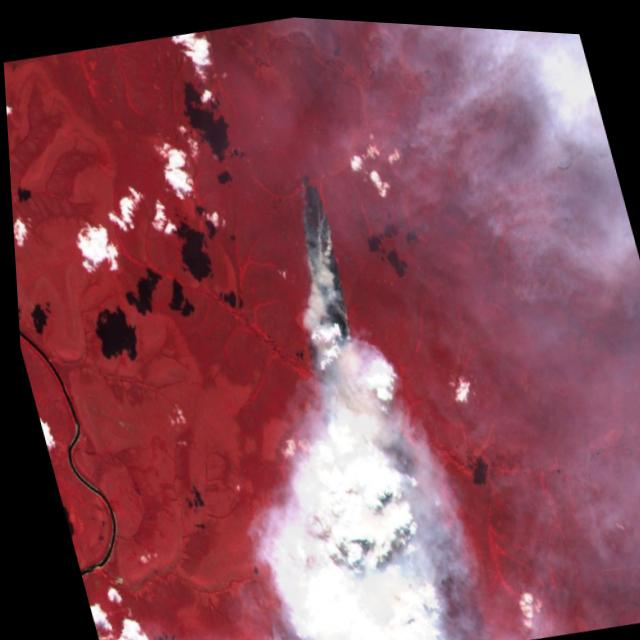fire: (258, 156, 377, 406)
